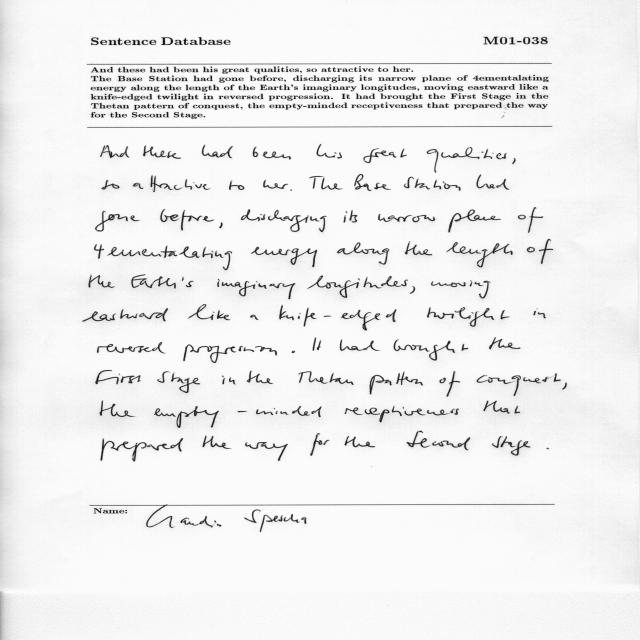word: (154, 406, 322, 428), (95, 244, 232, 270), (280, 305, 397, 330), (307, 275, 408, 298), (427, 147, 507, 172), (241, 209, 327, 232), (345, 406, 459, 423), (477, 373, 561, 396), (101, 438, 183, 461), (183, 344, 277, 363), (427, 307, 510, 327), (447, 242, 513, 267), (218, 279, 296, 299), (394, 340, 468, 361), (133, 175, 211, 192), (251, 247, 317, 267), (448, 210, 501, 233), (407, 431, 470, 450), (83, 308, 168, 322), (370, 372, 423, 394), (337, 243, 389, 265), (160, 209, 214, 230), (431, 281, 490, 299), (157, 371, 200, 393), (96, 211, 140, 232), (132, 275, 194, 289), (245, 442, 288, 461), (404, 177, 461, 191), (299, 371, 354, 385), (492, 436, 530, 456), (98, 342, 166, 353), (363, 148, 407, 163), (518, 207, 543, 233), (527, 239, 553, 264), (96, 371, 141, 385), (354, 174, 391, 191), (189, 305, 230, 320), (100, 400, 135, 417), (439, 371, 460, 397), (143, 145, 181, 159), (476, 175, 510, 190), (253, 147, 291, 160), (340, 339, 380, 351), (309, 176, 343, 190), (484, 401, 520, 414), (378, 214, 435, 222), (311, 433, 330, 456), (202, 435, 231, 449), (202, 145, 233, 158), (405, 242, 432, 256), (101, 145, 130, 158), (317, 144, 342, 159), (489, 338, 520, 350), (247, 370, 273, 384), (344, 436, 375, 447), (89, 275, 115, 288), (263, 180, 288, 189), (344, 210, 358, 223), (102, 180, 120, 190), (229, 180, 244, 190), (222, 376, 236, 385), (313, 338, 321, 351), (533, 311, 546, 318), (250, 315, 259, 320), (410, 286, 415, 294), (562, 383, 567, 390), (512, 158, 516, 164), (219, 222, 223, 228), (292, 351, 295, 353), (290, 189, 292, 191), (547, 448, 549, 449)
